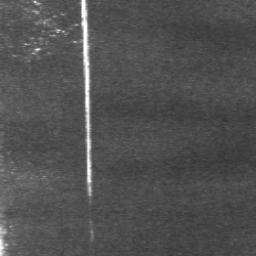Bright scratch: (81, 0, 91, 196)
